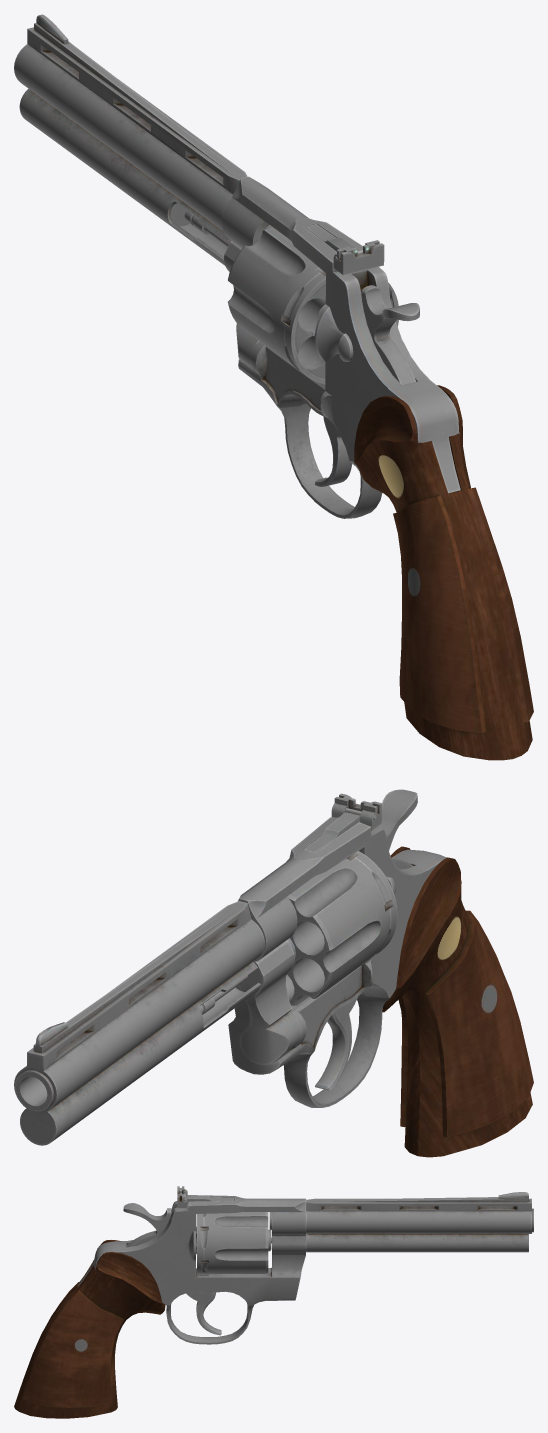
File: colt_python_revolver.glb
3 views of the same model, one above another, from view 1: azimuth 30°, elevation 25°; view 2: azimuth 150°, elevation 25°; view 3: azimuth 270°, elevation 25° (orthographic). The views are drawn at different scales.
Visible parts, largest first — view 1: grip_low.001, body_low.001, barrel_low.001, wheel_low.001, Hammer_low.001, sight_low.001, slot_low.001, trigger_low.001, wheel_rot_low.001; view 2: grip_low.001, barrel_low.001, body_low.001, wheel_low.001, wheel_rot_low.001, trigger_low.001, Hammer_low.001, sight_low.001, sight_fixed_low.001; view 3: grip_low.001, barrel_low.001, body_low.001, wheel_low.001, Hammer_low.001, trigger_low.001.
Boxes of the visible parts, box(x1,y1,x2,y2) form: grip_low.001: box(354, 385, 533, 760); body_low.001: box(221, 176, 460, 518); barrel_low.001: box(14, 14, 247, 265); wheel_low.001: box(227, 226, 398, 383); Hammer_low.001: box(361, 285, 419, 384); sight_low.001: box(333, 240, 384, 275); slot_low.001: box(314, 304, 343, 362); trigger_low.001: box(314, 416, 352, 486); wheel_rot_low.001: box(224, 241, 258, 368); grip_low.001: box(382, 846, 533, 1157); barrel_low.001: box(14, 901, 264, 1145); body_low.001: box(228, 817, 446, 1107); wheel_low.001: box(286, 851, 397, 1005); wheel_rot_low.001: box(239, 940, 301, 1064); trigger_low.001: box(315, 997, 357, 1090); Hammer_low.001: box(377, 789, 417, 869); sight_low.001: box(331, 793, 381, 830); sight_fixed_low.001: box(304, 808, 361, 852); grip_low.001: box(14, 1240, 165, 1418); barrel_low.001: box(306, 1192, 533, 1252); body_low.001: box(78, 1195, 305, 1344); wheel_low.001: box(197, 1212, 268, 1274); Hammer_low.001: box(123, 1203, 171, 1247); trigger_low.001: box(186, 1292, 221, 1335).
Bounding box in the file's own units: 0.0376 × 0.1327 × 0.2894.
1 material, 1 textured.
